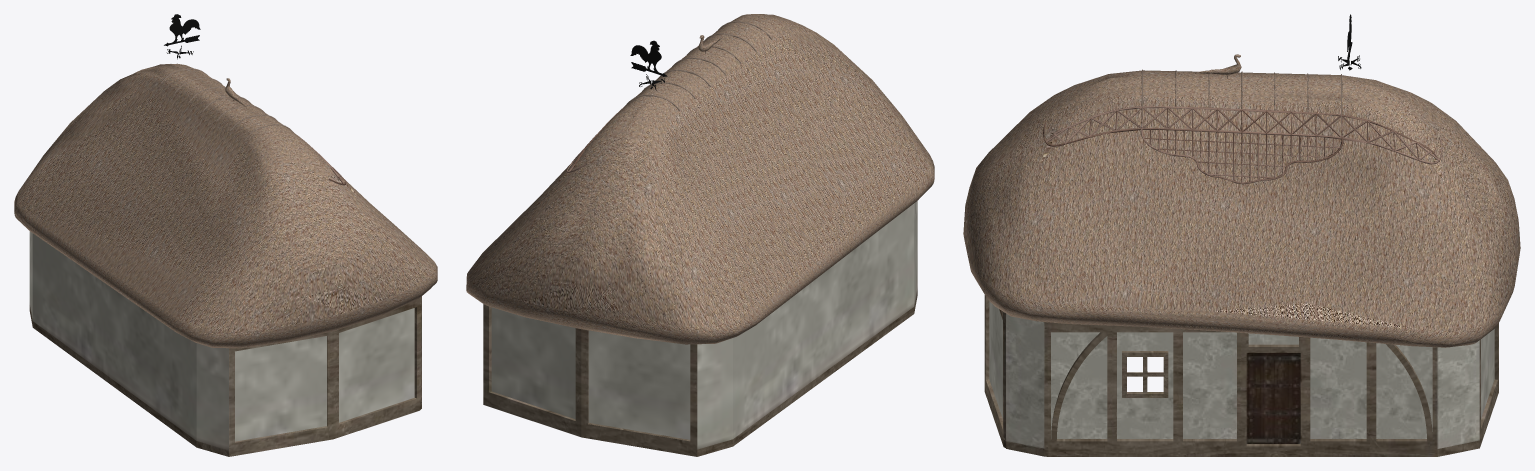
The model's file is farmhouse.glb.
The picture shows the model from 3 angles, left to right: view 1: azimuth 30°, elevation 25°; view 2: azimuth 150°, elevation 25°; view 3: azimuth 270°, elevation 25°; orthographic projection. The views are drawn at different scales.
Parts seen in each view (by area): view 1: prefab; view 2: prefab; view 3: prefab.
Boxes of the visible parts, bbox=[...] form: prefab: bbox=[14, 14, 437, 456]; prefab: bbox=[466, 14, 934, 456]; prefab: bbox=[963, 14, 1520, 456].
Bounding box in the file's own units: 4.97 × 5.93 × 7.98.
3 materials, 2 textured.
